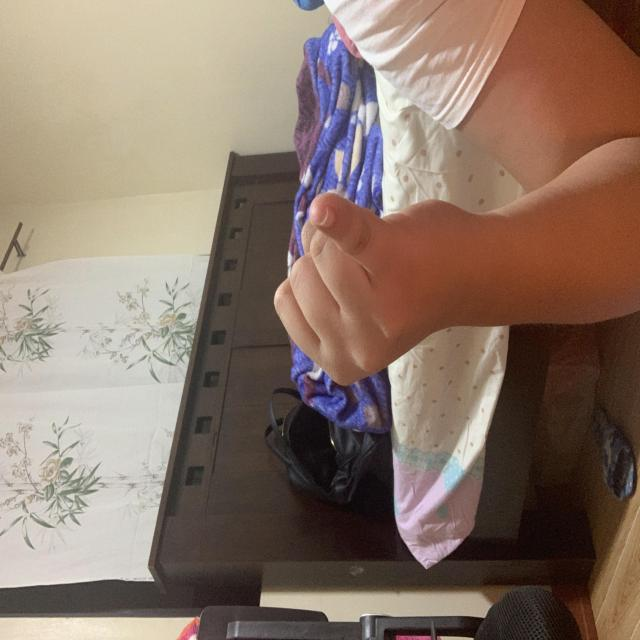J: (192, 270, 388, 483)
